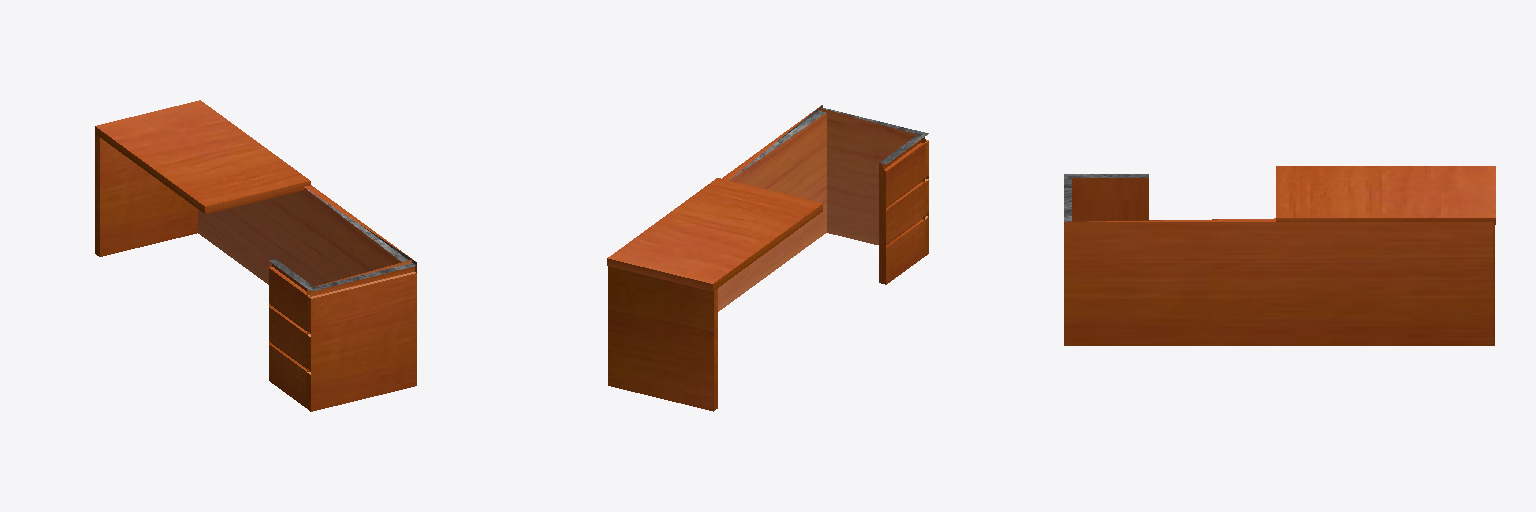
3 renders of one model, left to right at view 1: azimuth 30°, elevation 25°; view 2: azimuth 150°, elevation 25°; view 3: azimuth 270°, elevation 25°, orthographic.
Parts seen in each view (by area): view 1: EscritorioMadera:pCube129; view 2: EscritorioMadera:pCube129; view 3: EscritorioMadera:pCube129.
Part boxes in pixels (bbox=[...]): EscritorioMadera:pCube129: bbox=[95, 100, 416, 411]; EscritorioMadera:pCube129: bbox=[607, 105, 928, 411]; EscritorioMadera:pCube129: bbox=[1064, 166, 1495, 345].
Size of the model in its own units: 4.72 by 5.43 by 16.65.
Materials: 2 (2 with a texture image).